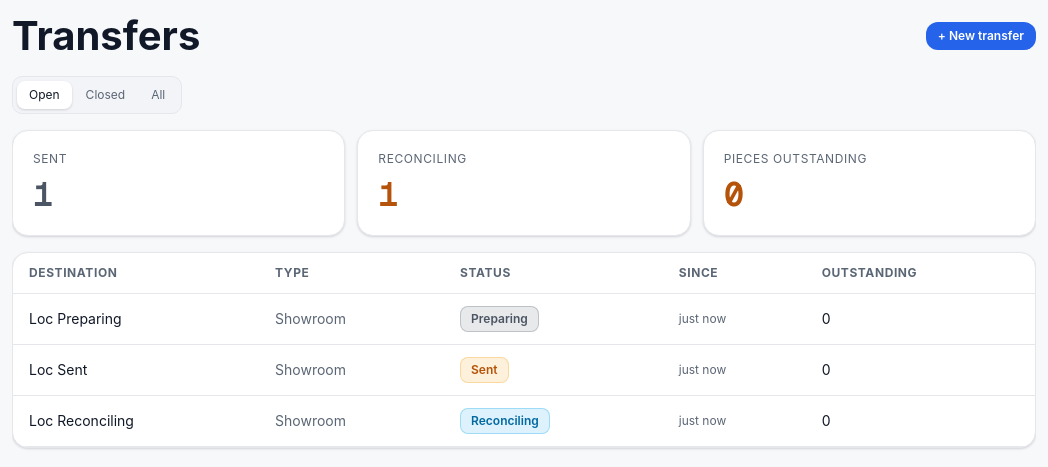
Test case: Transfers list — tabs, badges, tiles › lc1 — every status gets its own label; Open and Closed tabs ask for their groups
This screenshot has width=1048, height=467.
Expected: the text "Preparing" is shown, [460,306,539,332]
Expected: the text "Sent" in the row of "Loc Sent" is shown, [471,362,498,377]
Click the button "Closed" at (105, 95), box [74,81,137,109]
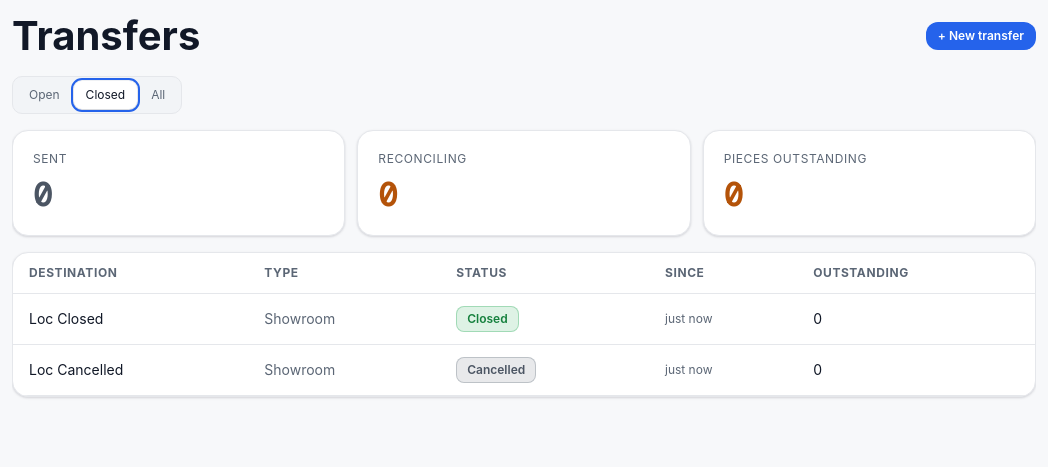
Result: the text "Closed" is shown at [456,306,519,332]
Result: the text "Cancelled" is shown at [456,357,536,383]
Result: the text "Loc Preparing" is gone
